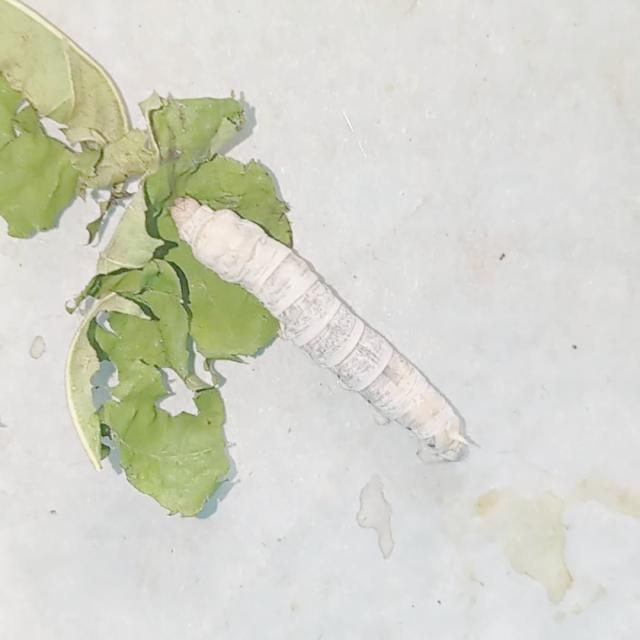Grasserie: (167, 162, 482, 464)
